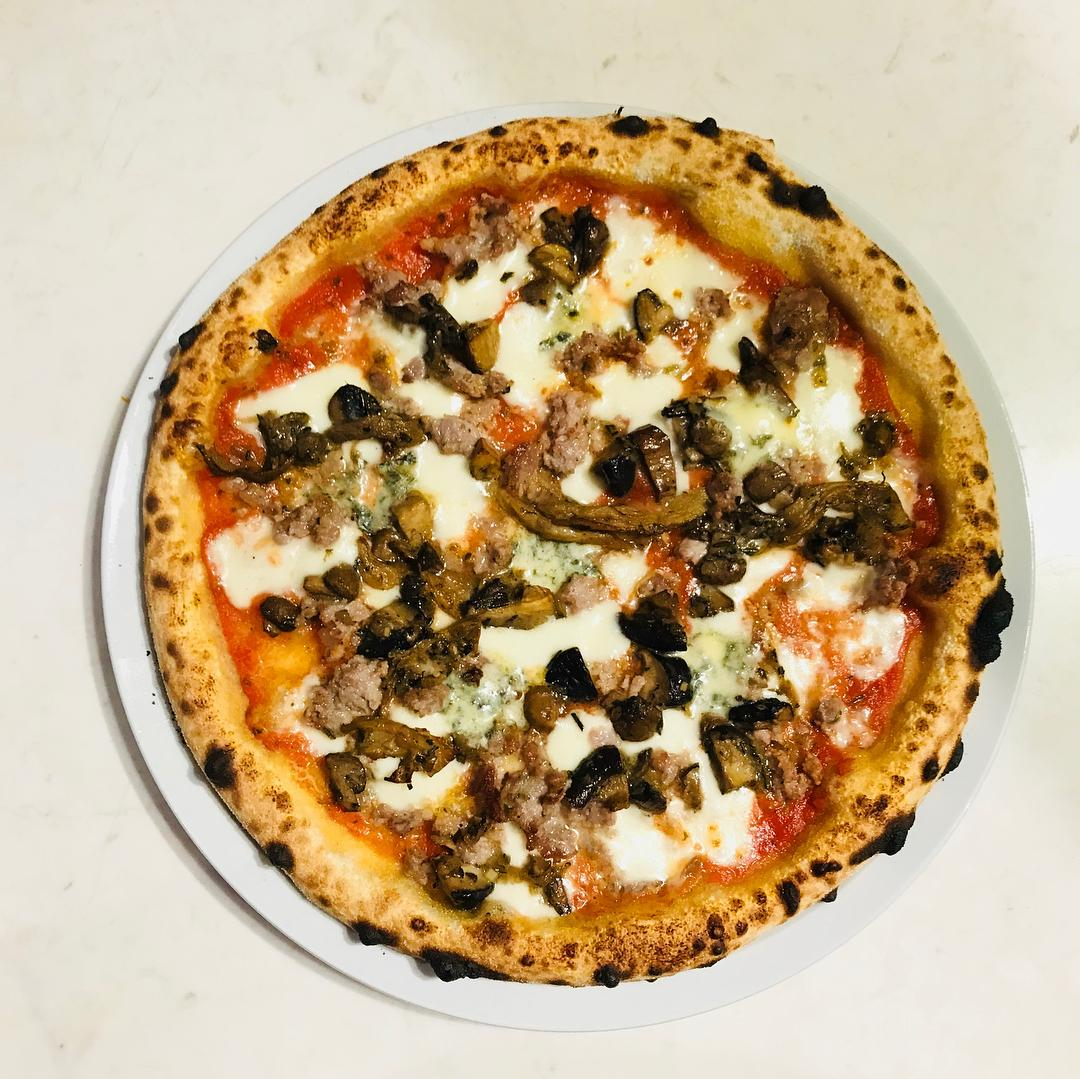Pizza: (145, 115, 995, 973)
